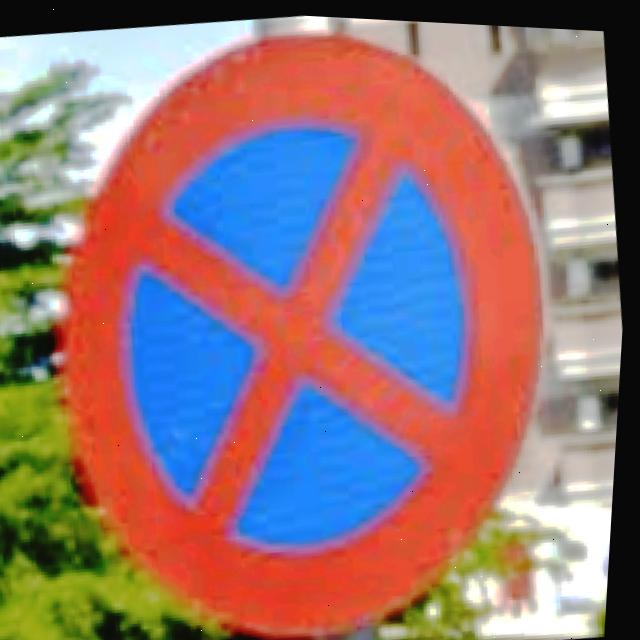nopark: (66, 30, 558, 640)
